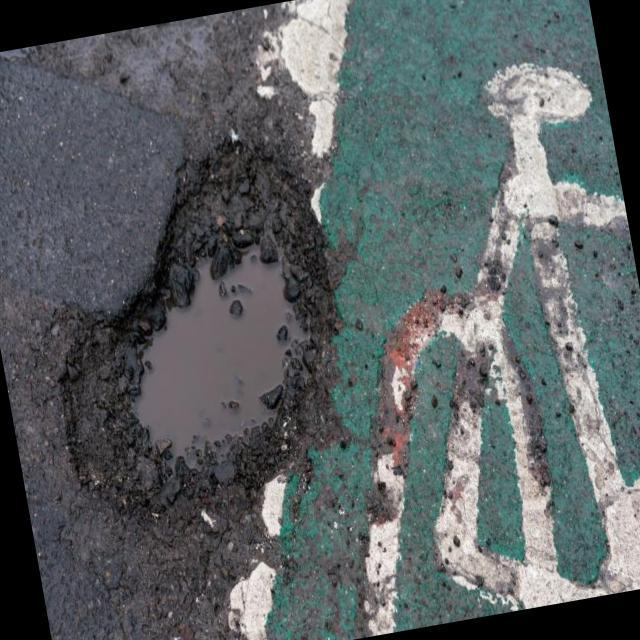Pothole: (64, 119, 326, 519)
